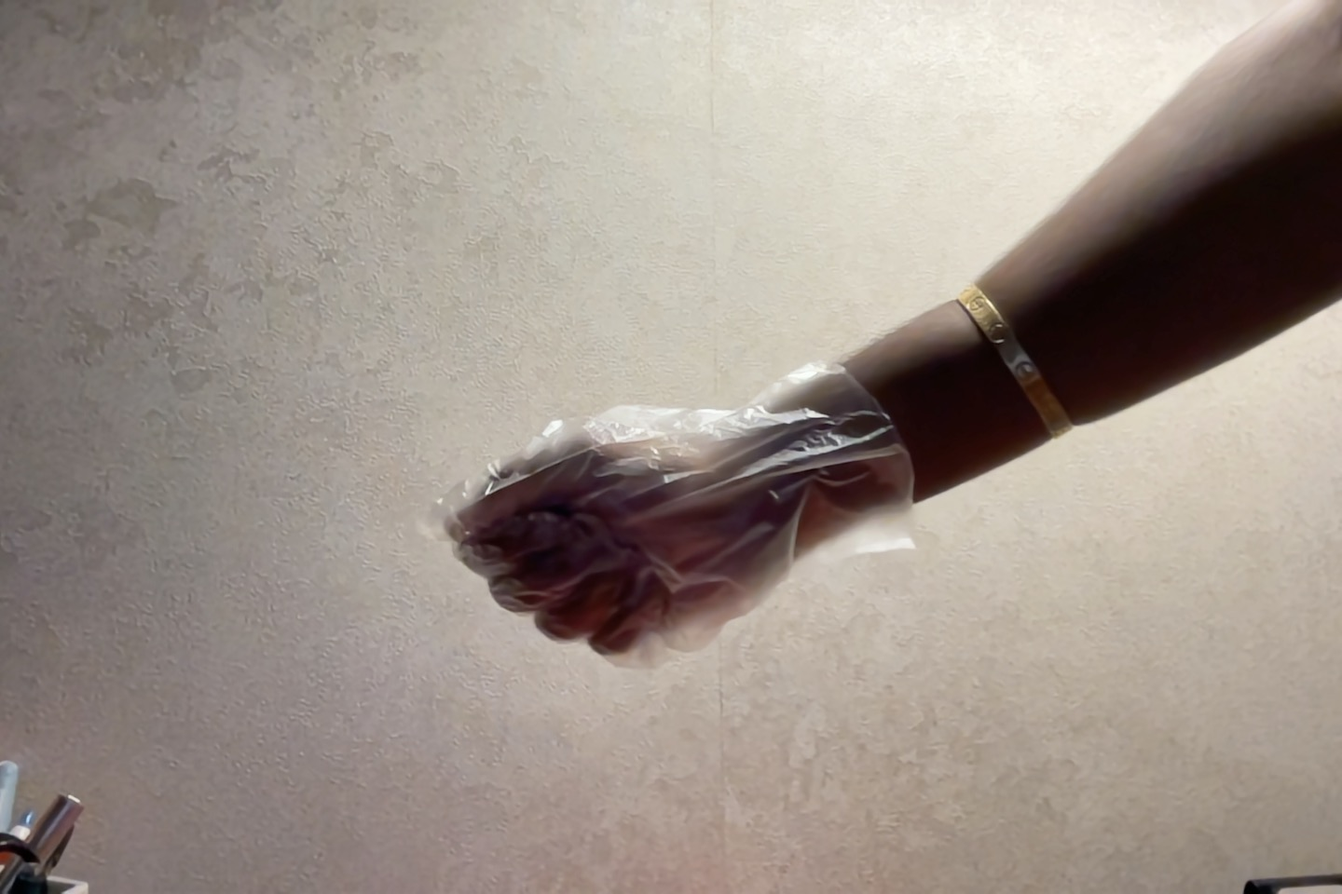gloves: (363, 248, 933, 741)
